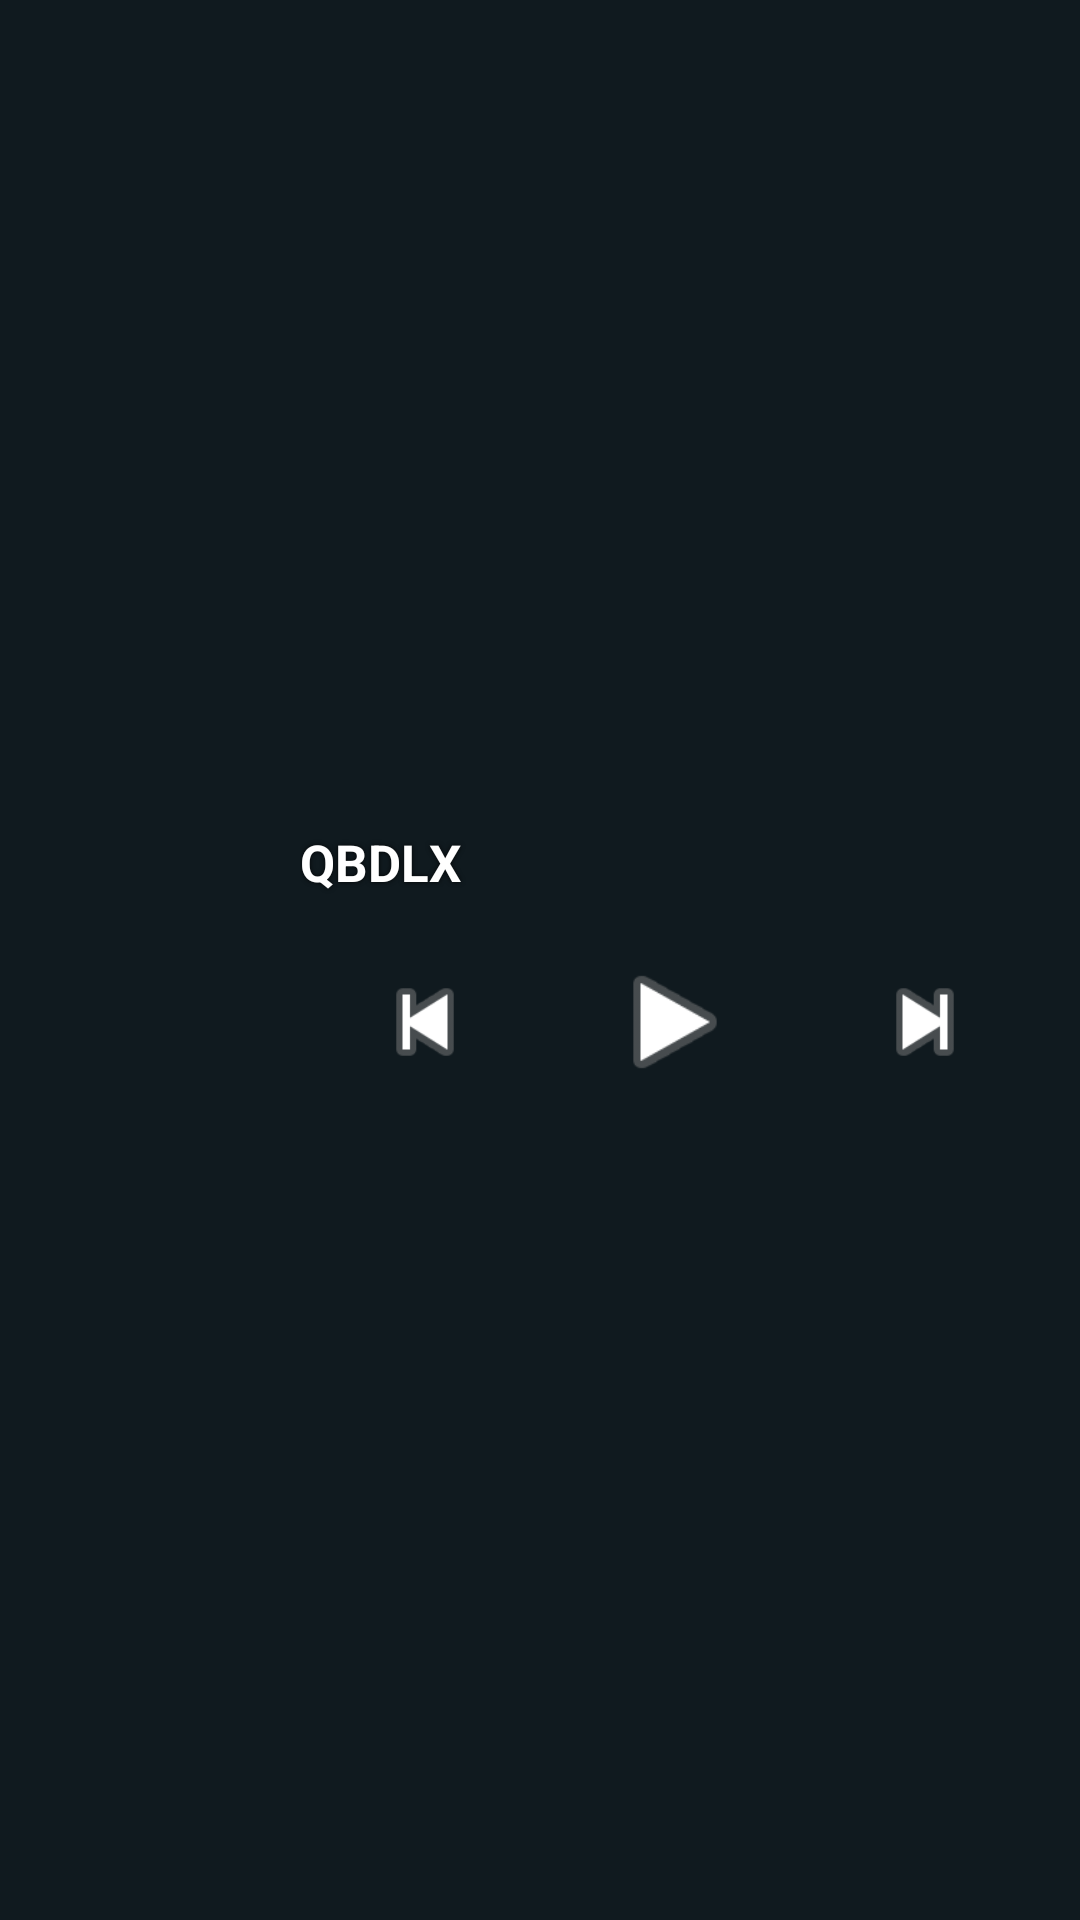

Icons on this 1080*1920 Android screen, each with the point to tap as point (x, y):
Next: point (925, 1022)
Play / pause: point (675, 1022)
Previous: point (425, 1022)
